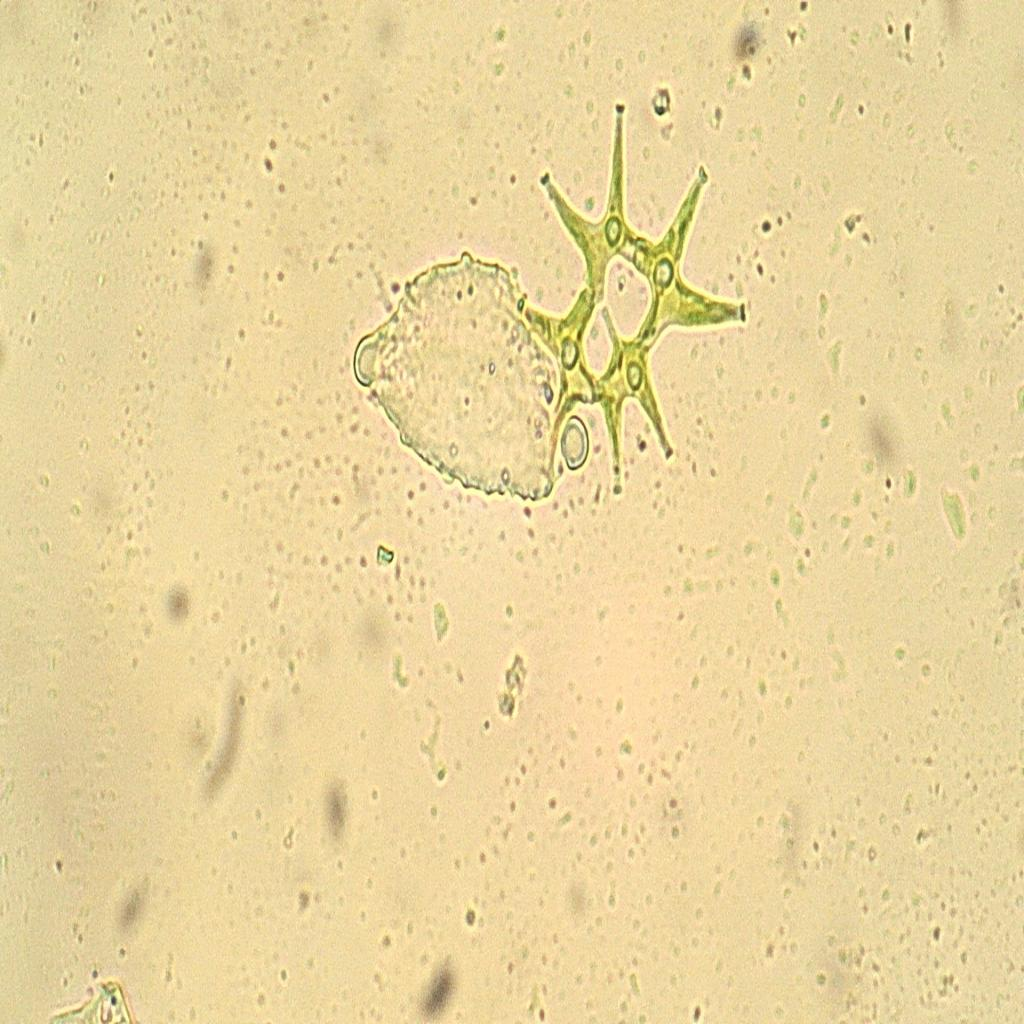Pediastrum_CF: (491, 100, 755, 512)
